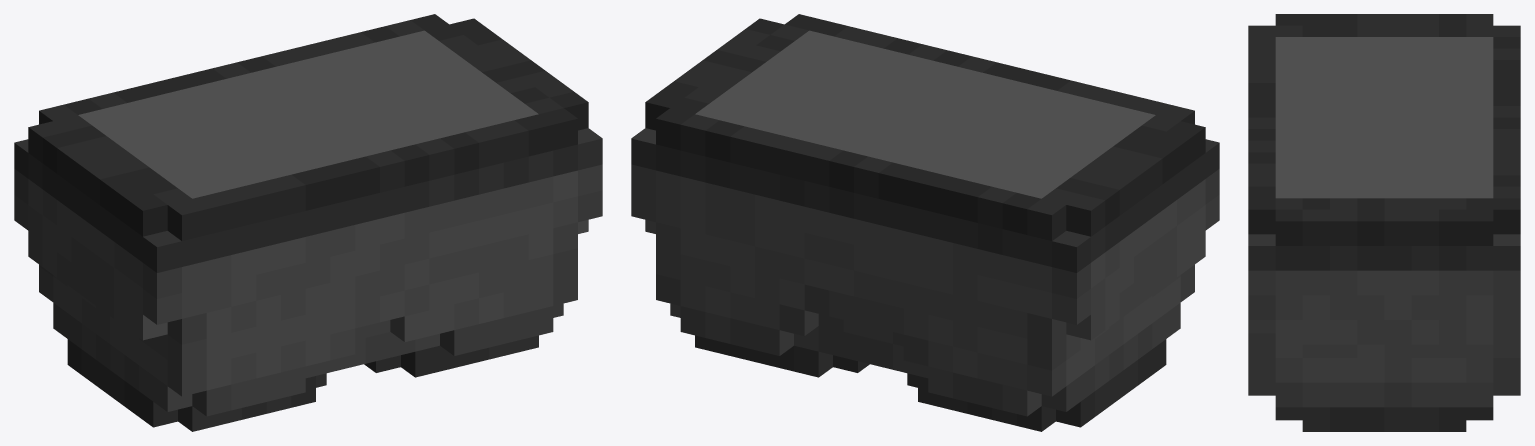
Rendered from Movement Monster-6-Cintura.obj.
The picture shows the model from 3 angles, left to right: view 1: azimuth 30°, elevation 25°; view 2: azimuth 150°, elevation 25°; view 3: azimuth 270°, elevation 25°; orthographic projection. The views are drawn at different scales.
Visible parts, largest first — view 1: Cintura; view 2: Cintura; view 3: Cintura.
Boxes of the visible parts, x1,y1,x2,y2 form: Cintura: [14, 14, 602, 431]; Cintura: [631, 14, 1219, 431]; Cintura: [1248, 14, 1520, 431].
Size of the model in its own units: 1.8 by 0.9 by 1.
Materials: 1 (1 with a texture image).
